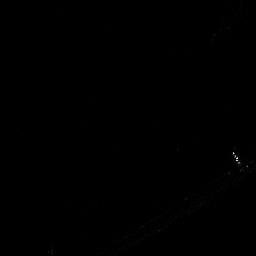ship: (229, 149, 251, 174)
